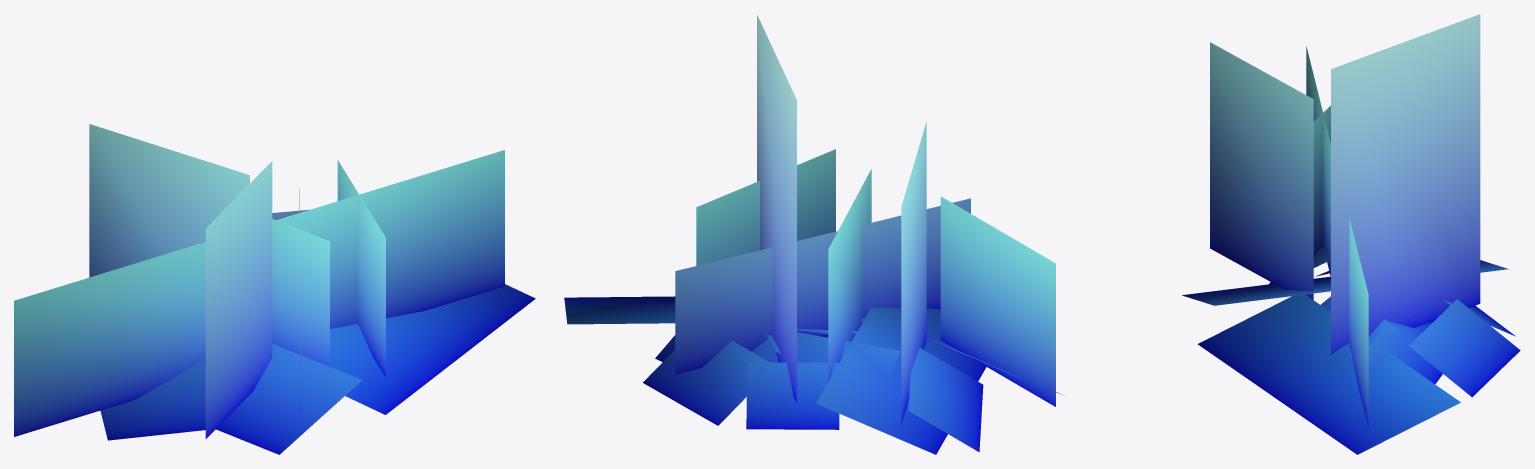
File: SM_Env_Ground_Cover_01.glb
The picture shows the model from 3 angles, left to right: view 1: azimuth 30°, elevation 25°; view 2: azimuth 150°, elevation 25°; view 3: azimuth 270°, elevation 25°; orthographic projection. The views are drawn at different scales.
Parts seen in each view (by area): view 1: SM_Env_Ground_Cover_01_LOD0; view 2: SM_Env_Ground_Cover_01_LOD0; view 3: SM_Env_Ground_Cover_01_LOD0.
Boxes of the visible parts, x1,y1,x2,y2 form: SM_Env_Ground_Cover_01_LOD0: (14,124,535,454); SM_Env_Ground_Cover_01_LOD0: (564,15,1062,454); SM_Env_Ground_Cover_01_LOD0: (1182,14,1520,454).
Size of what is drawn, in the model's own units: 2.89 by 1.59 by 1.58.
